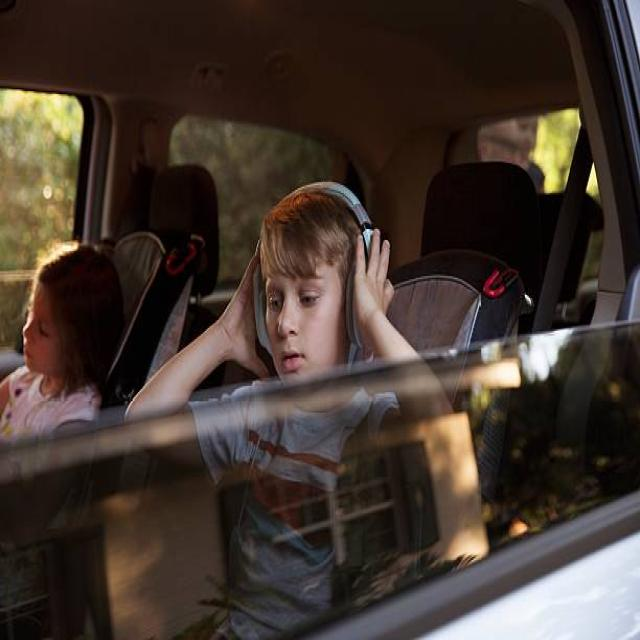Headphone: (253, 179, 378, 355)
